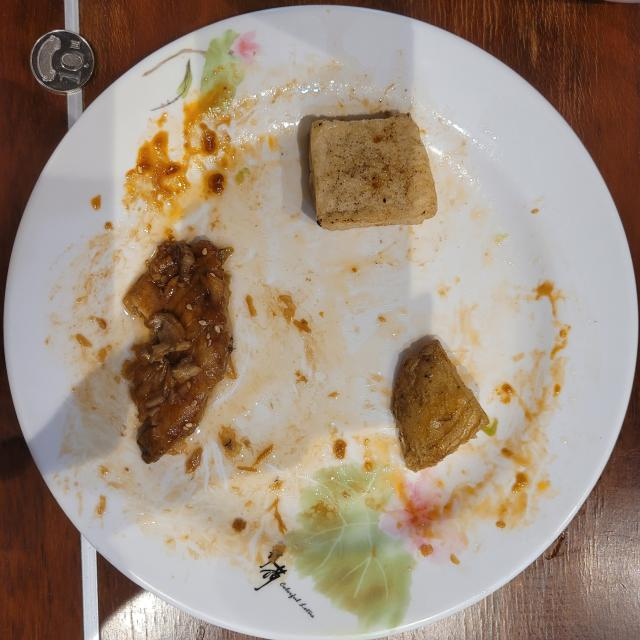Kabayaki sea bream fillet: (122, 240, 232, 462)
coin: (31, 30, 94, 94)
creamy tofu -without sauce-: (309, 114, 438, 230)
fried potato: (392, 340, 489, 471)
